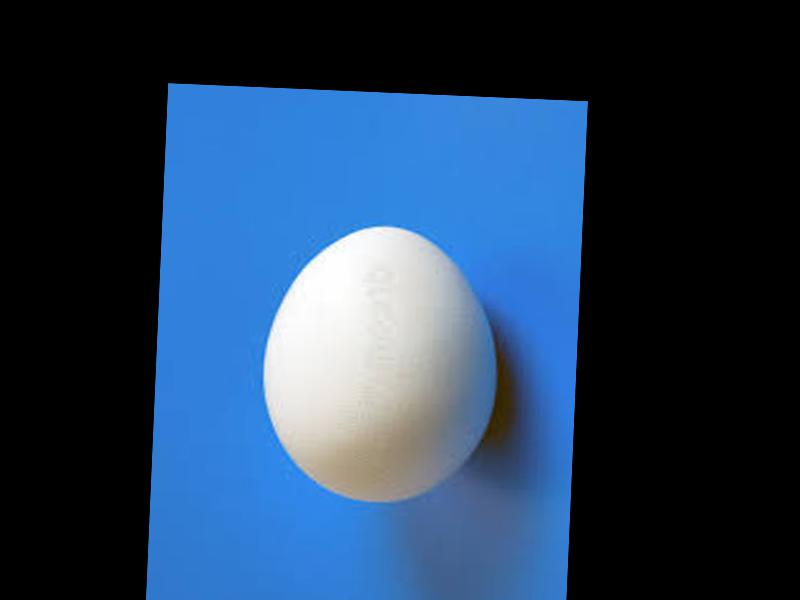Eggs: (258, 218, 504, 509)
